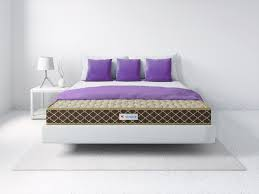bed-matress: (46, 75, 212, 126)
